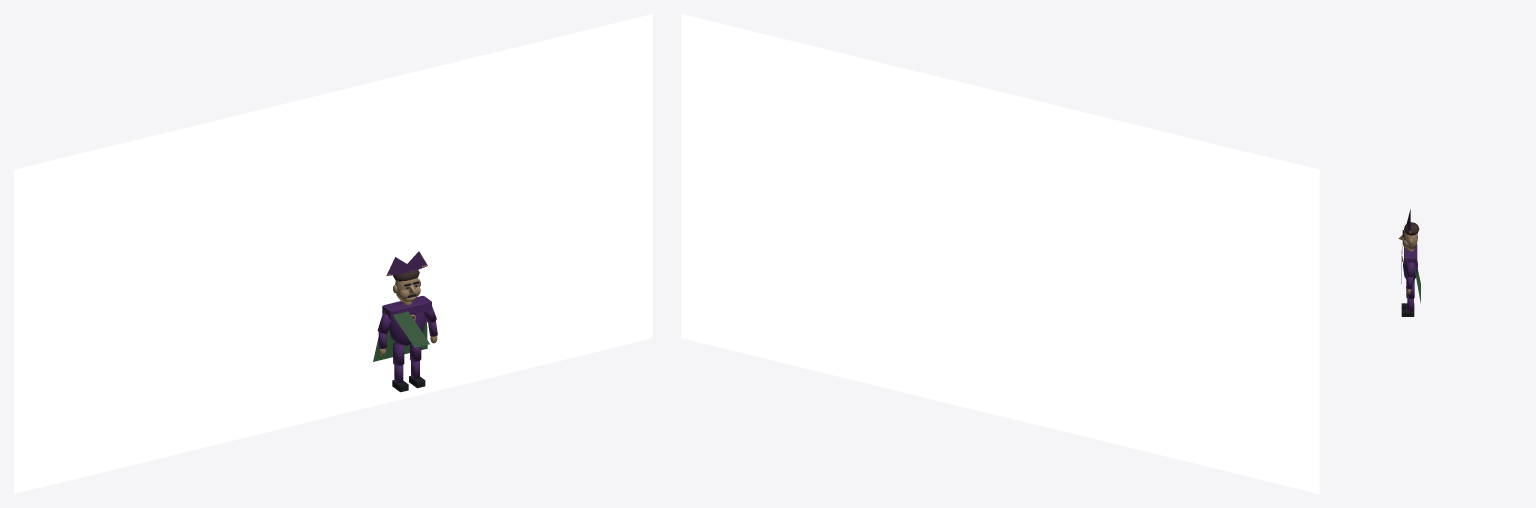
3 views of the same model, side by side, from view 1: azimuth 30°, elevation 25°; view 2: azimuth 150°, elevation 25°; view 3: azimuth 270°, elevation 25° (orthographic). The views are drawn at different scales.
Parts seen in each view (by area): view 1: H4 / procedural background; view 2: H4 / procedural background; view 3: H4 / Dramon admiral shoulders.
Boxes of the visible parts, x1=… form: H4 / procedural background: x1=14, y1=14, x2=652, y2=493; H4 / procedural background: x1=681, y1=14, x2=1319, y2=493; H4 / Dramon admiral shoulders: x1=1404, y1=244, x2=1417, y2=264.
Bounding box in the file's own units: 35 × 17 × 10.92.
